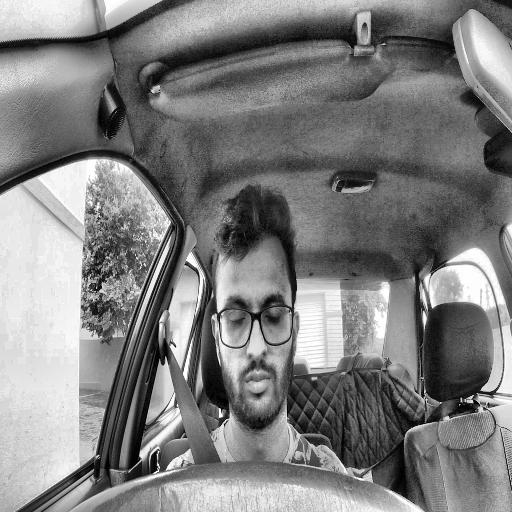drowsy: (210, 182, 299, 440)
